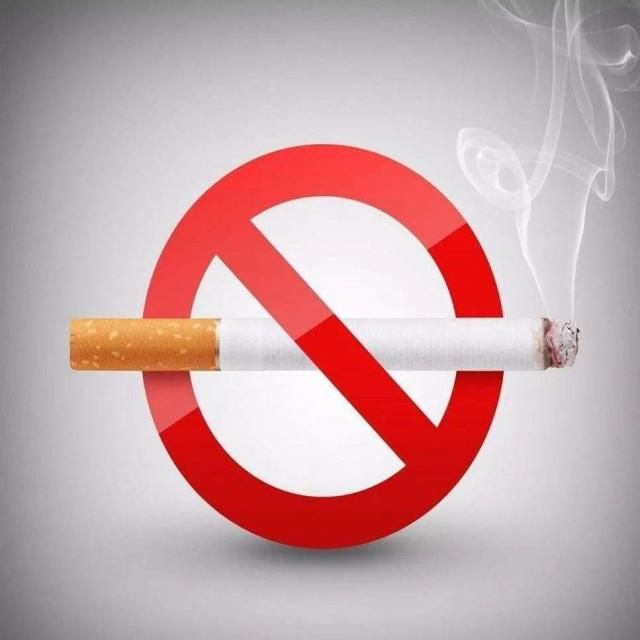smoke: (61, 305, 588, 391)
